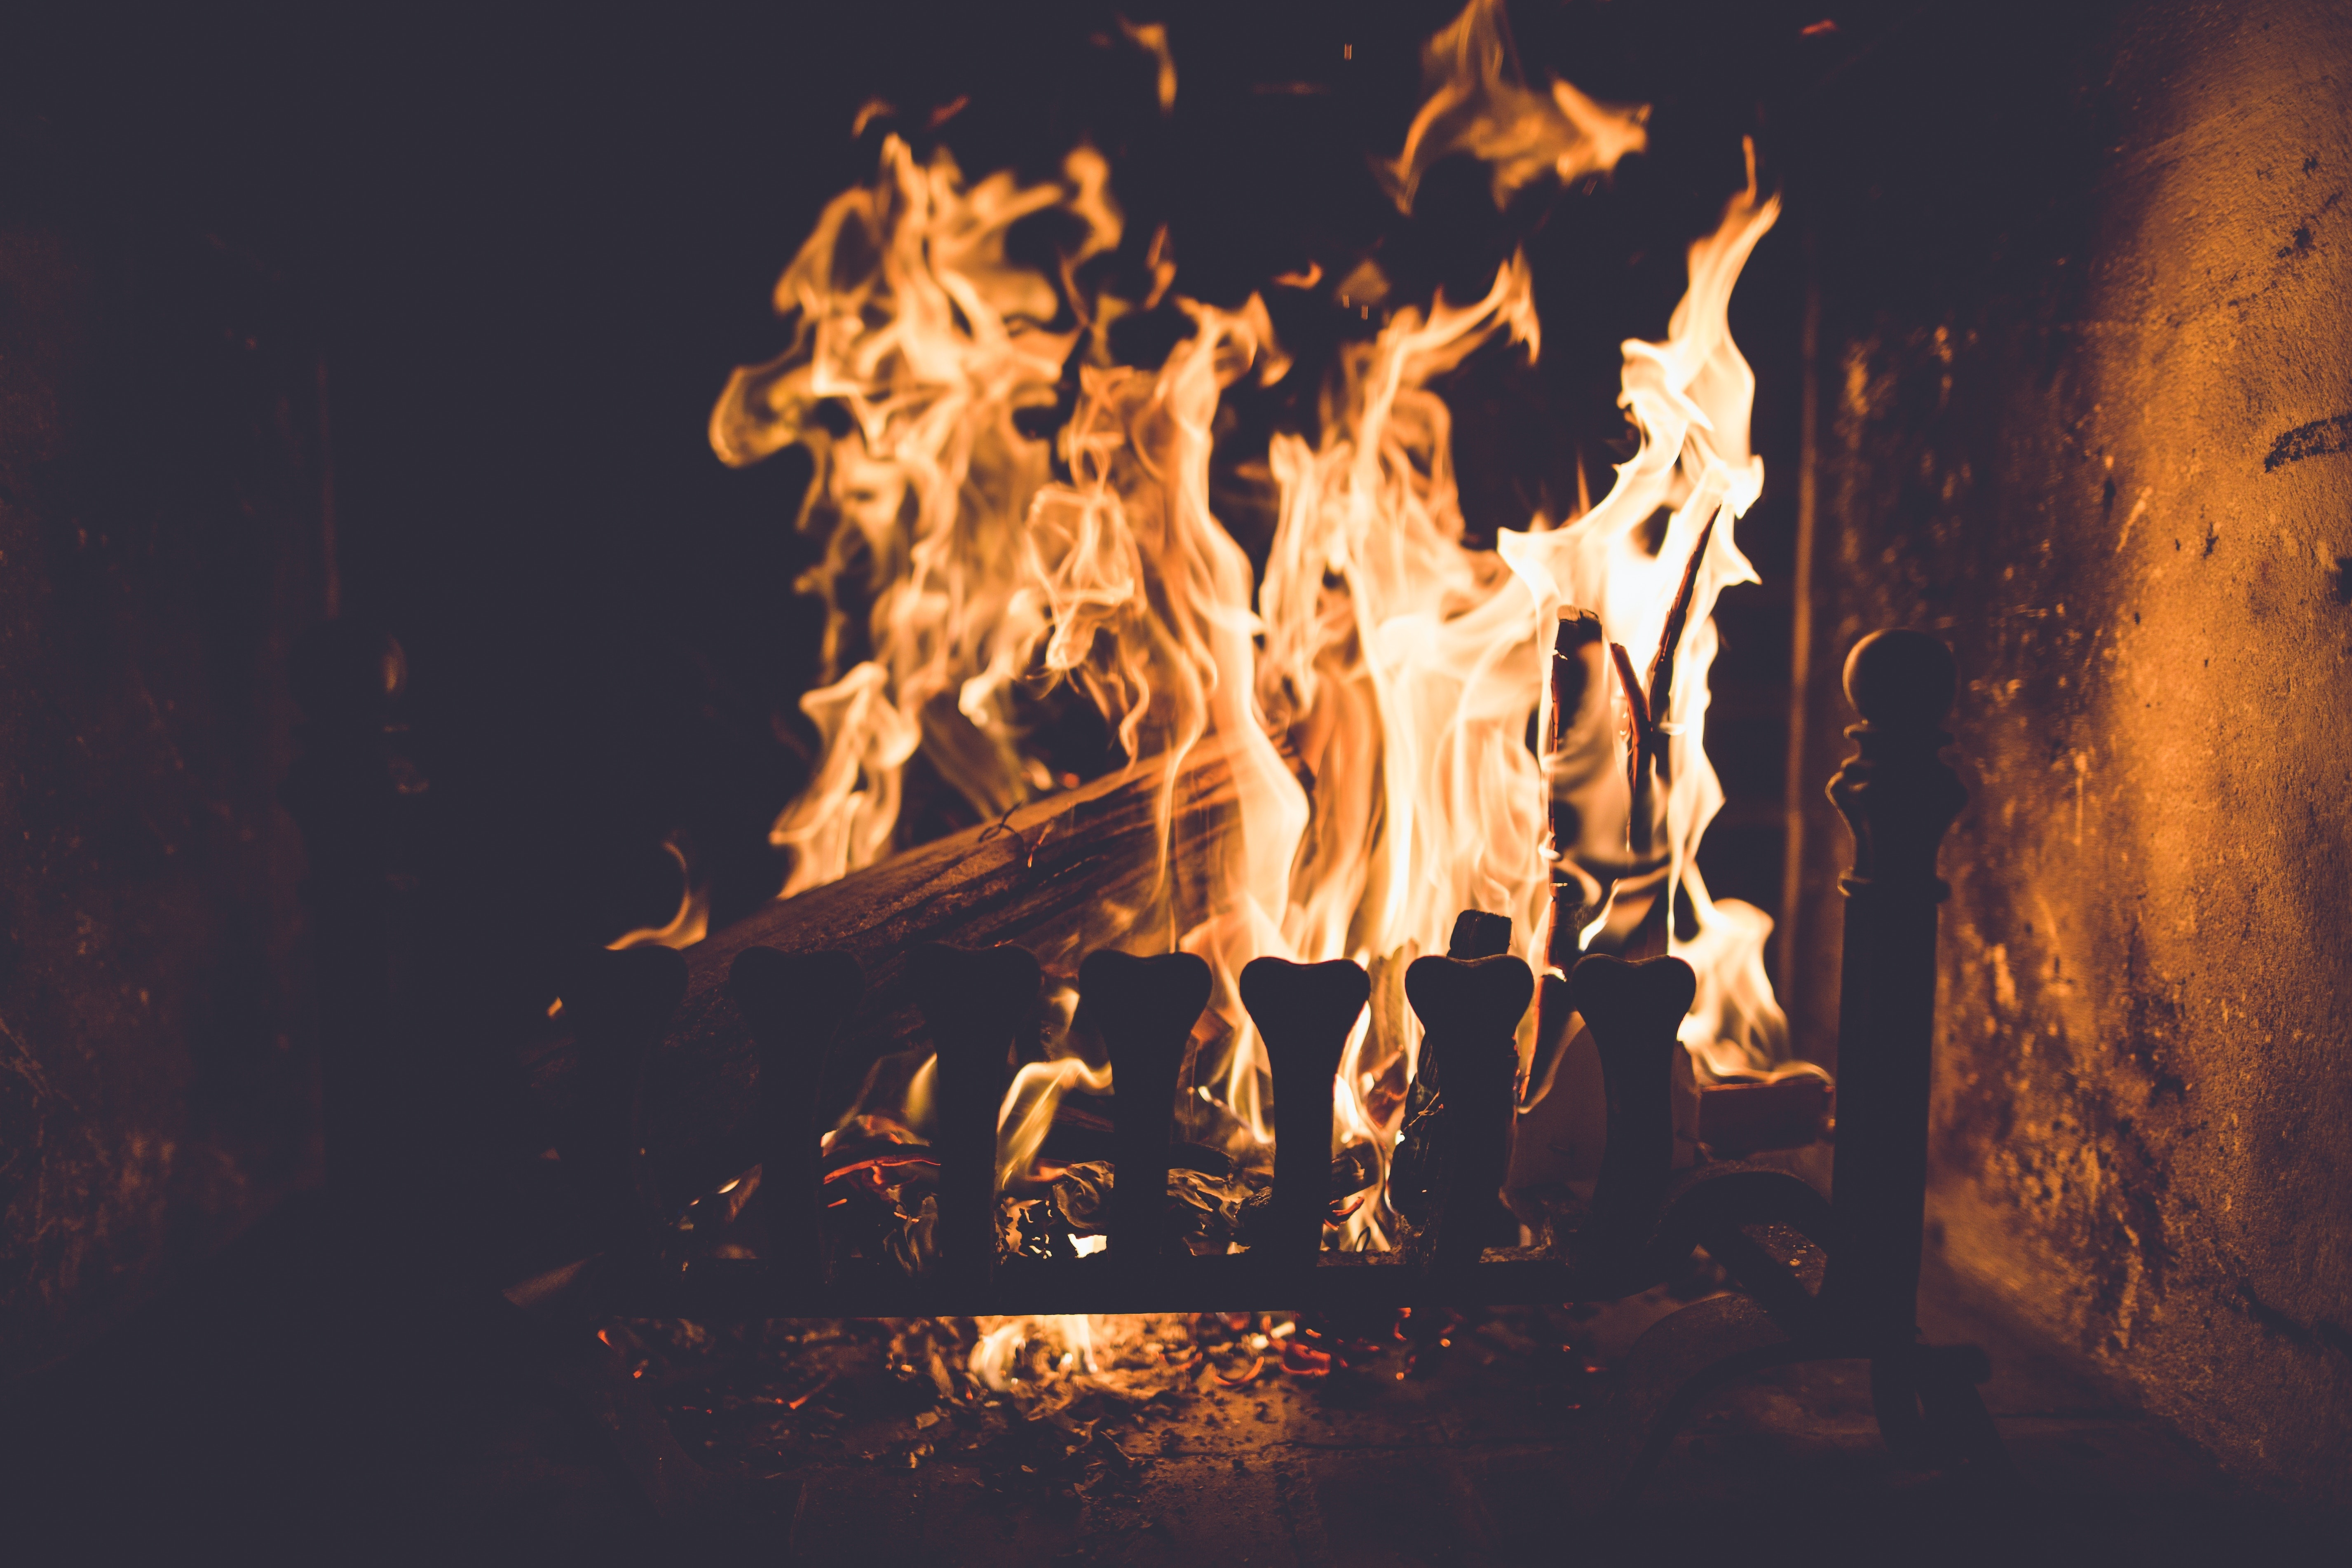fire: (688, 21, 1906, 1372)
